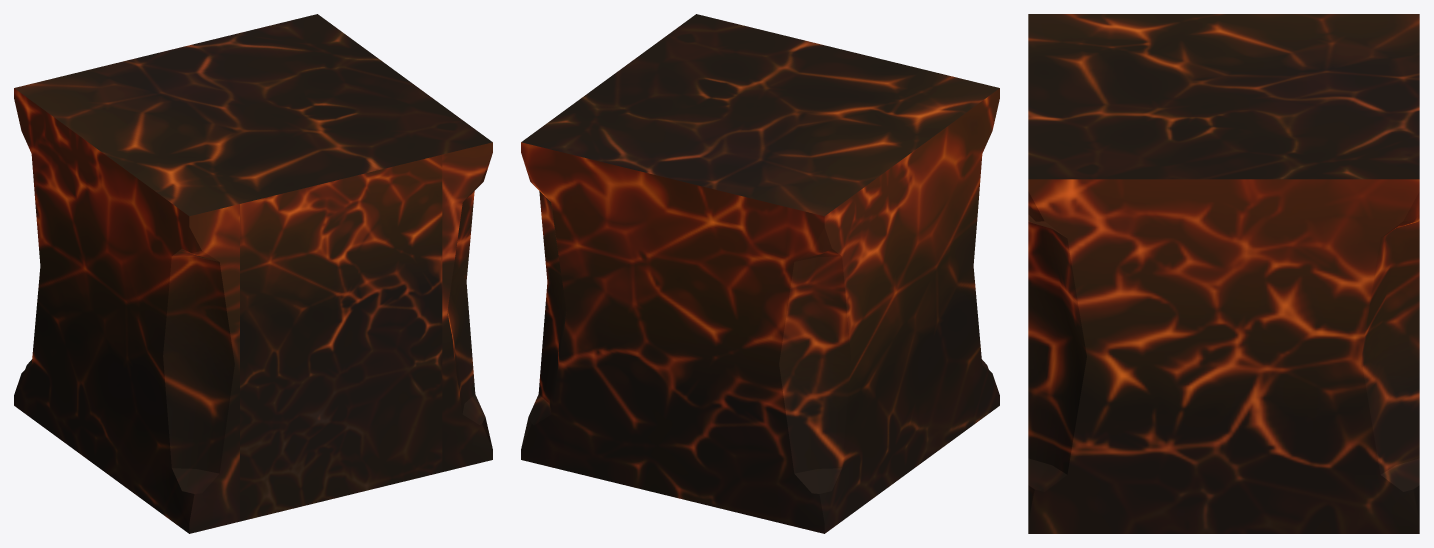
The model's file is wall_01_cross.fbx.
3 views of the same model, side by side, from view 1: azimuth 30°, elevation 25°; view 2: azimuth 150°, elevation 25°; view 3: azimuth 270°, elevation 25° (orthographic). The views are drawn at different scales.
Parts seen in each view (by area): view 1: wall_01; view 2: wall_01; view 3: wall_01.
Part boxes in pixels (left/top/right/bottom): wall_01: left=14, top=14, right=492, bottom=533; wall_01: left=521, top=14, right=999, bottom=533; wall_01: left=1028, top=14, right=1419, bottom=533.
Size of the model in its own units: 100 by 100 by 100.
